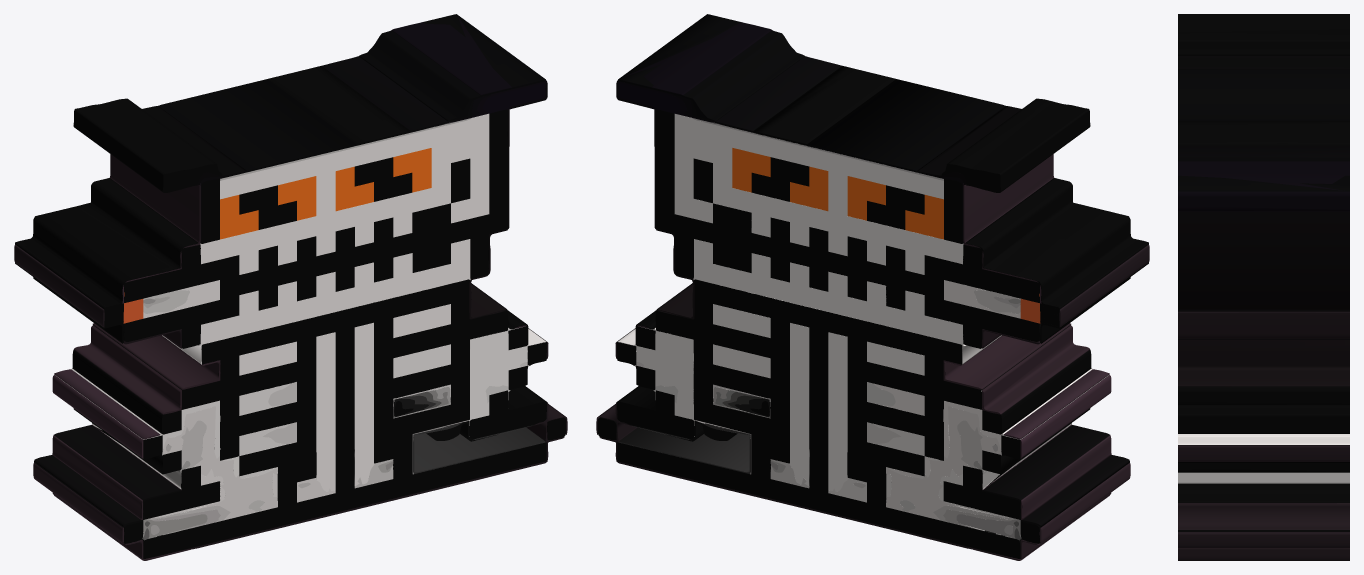
The model's file is Toadz_4733.glb.
3 renders of one model, left to right at view 1: azimuth 30°, elevation 25°; view 2: azimuth 150°, elevation 25°; view 3: azimuth 270°, elevation 25°, orthographic. The views are drawn at different scales.
Parts seen in each view (by area): view 1: Curve; view 2: Curve; view 3: Curve.
Part boxes in pixels (x1,y1,x2,y2): Curve: (14, 14, 567, 560); Curve: (596, 14, 1149, 560); Curve: (1178, 14, 1349, 560).
Bounding box in the file's own units: 3 × 2.38 × 1.
